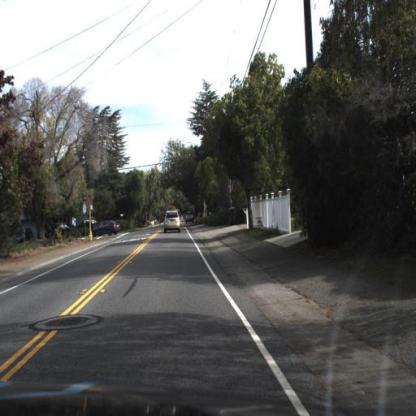car: (162, 207, 185, 236), (93, 220, 122, 239), (186, 212, 195, 226)
